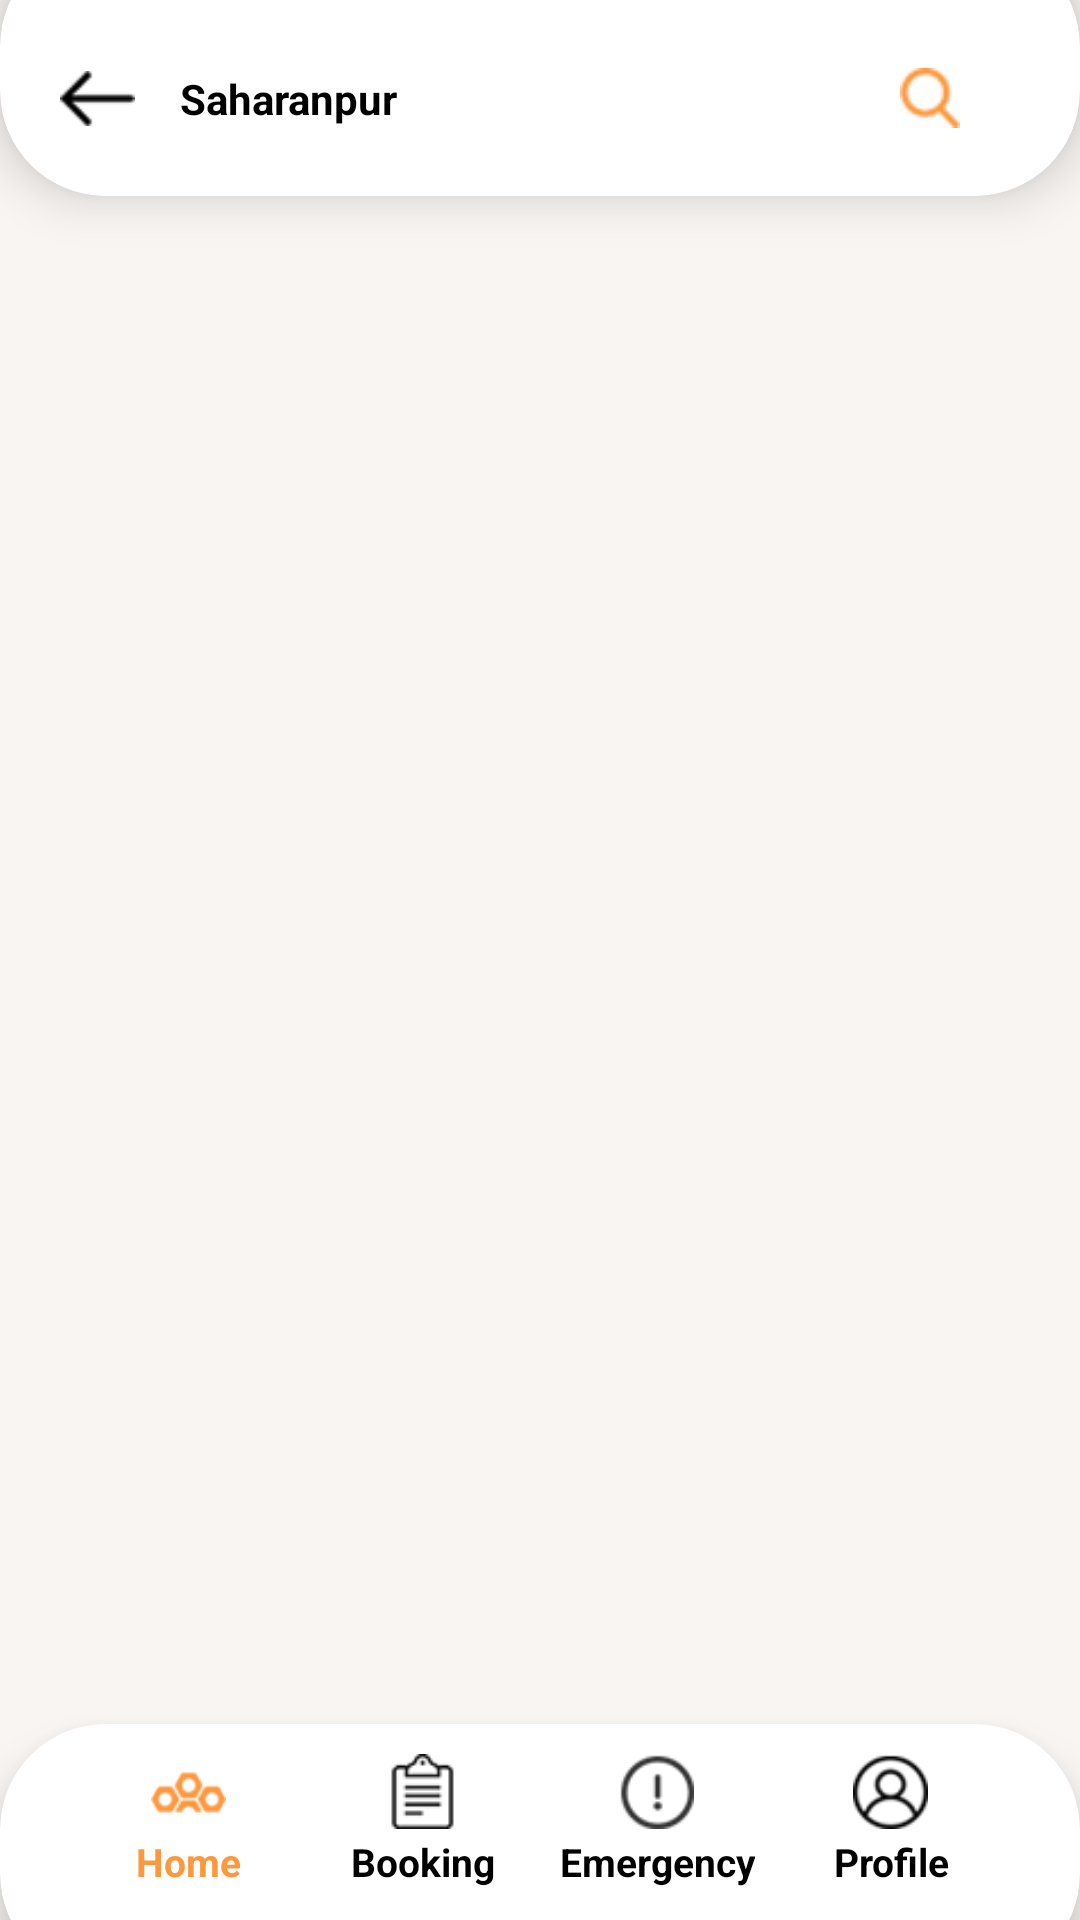

Screen size 1080 x 1920. Icon name, then its box in pixels as bbox(x1, y1, x2, y2):
back: bbox(60, 71, 135, 126)
search: bbox(900, 68, 960, 128)
